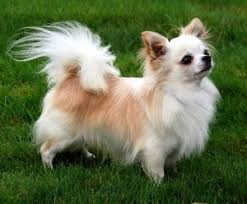chihuahua: (6, 14, 230, 179)
